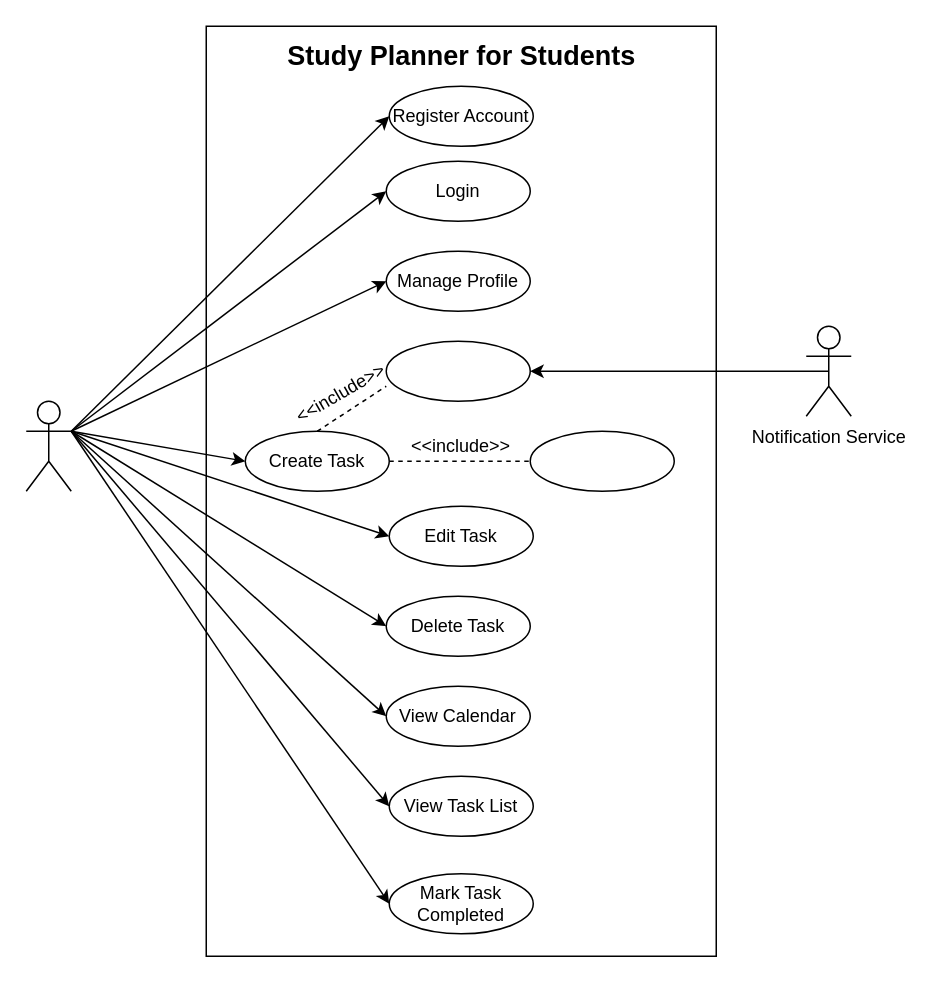
This 932x983 diagram has some shape labels left out. The centre of each missing label's shape, as x and y in pixels:
Set Reminder: (x=457, y=370)
Upload Attachment: (x=601, y=460)
User: (x=48, y=445)
